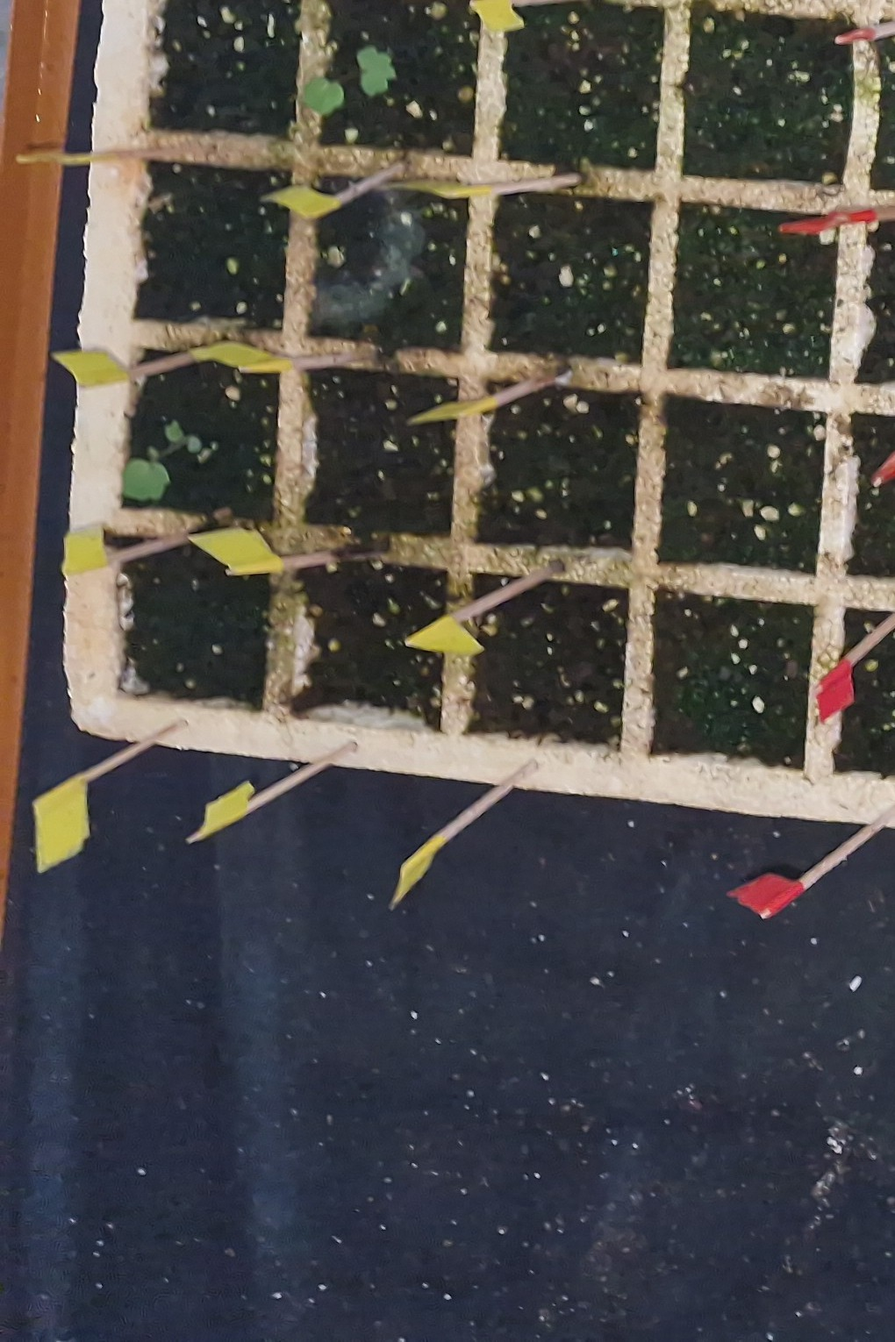Folha: (357, 47, 397, 96), (124, 459, 169, 500), (305, 77, 343, 115), (165, 421, 183, 443), (188, 436, 202, 453)
Germinacao: (303, 46, 397, 116), (123, 420, 201, 501)
